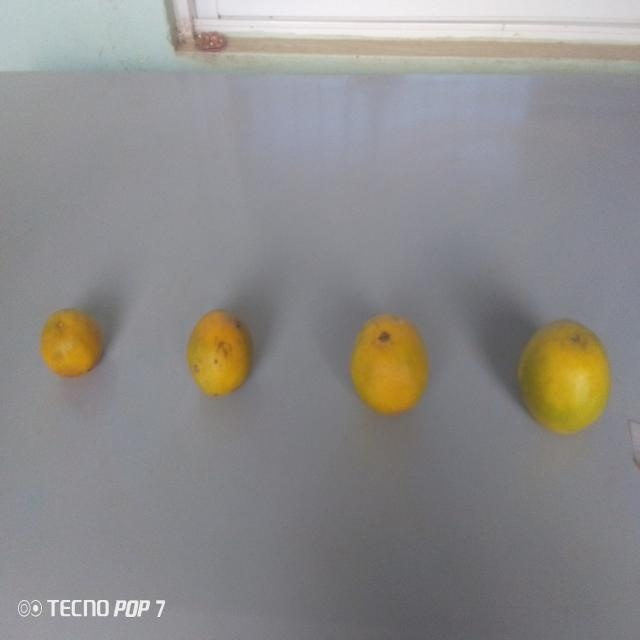agrume: (516, 306, 616, 442), (347, 306, 430, 425), (182, 305, 259, 411), (39, 300, 107, 385)
